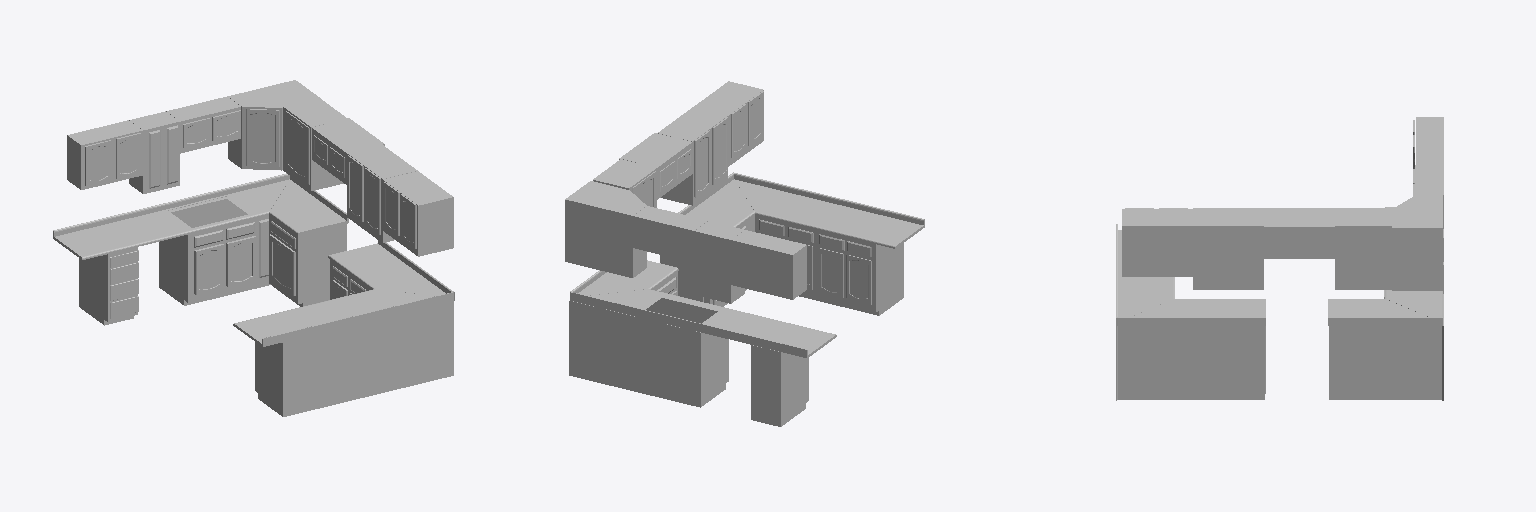
The model's file is KitchenCabinets.obj.
3 renders of one model, left to right at view 1: azimuth 30°, elevation 25°; view 2: azimuth 150°, elevation 25°; view 3: azimuth 270°, elevation 25°, orthographic.
Parts seen in each view (by area): view 1: polySurface21, polySurface3, polySurface55; view 2: polySurface21, polySurface55, polySurface3; view 3: polySurface21, polySurface55.
Part boxes in pixels (x1,y1,x2,y2): polySurface21: (67, 80, 453, 416); polySurface3: (85, 109, 416, 318); polySurface55: (53, 173, 454, 346); polySurface21: (565, 81, 903, 426); polySurface55: (570, 172, 924, 357); polySurface3: (632, 91, 871, 304); polySurface21: (1116, 117, 1443, 400); polySurface55: (1116, 207, 1442, 325).
Size of the model in its own units: 119 by 82.69 by 139.